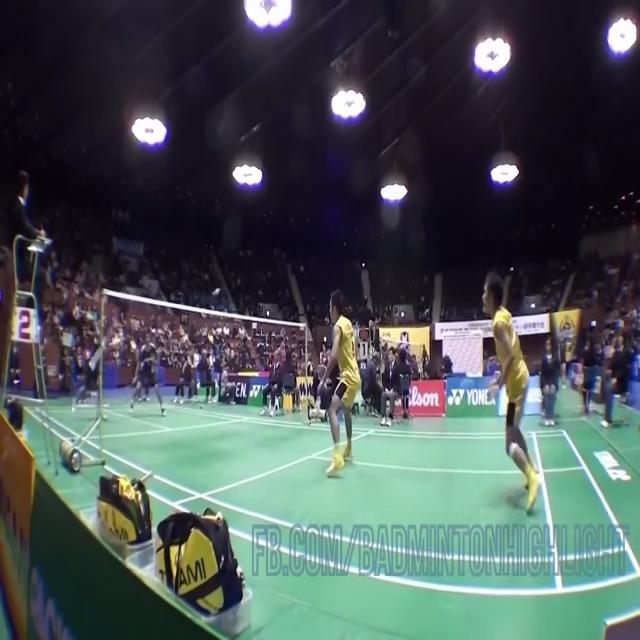shuttlecock: (212, 287, 220, 295)
